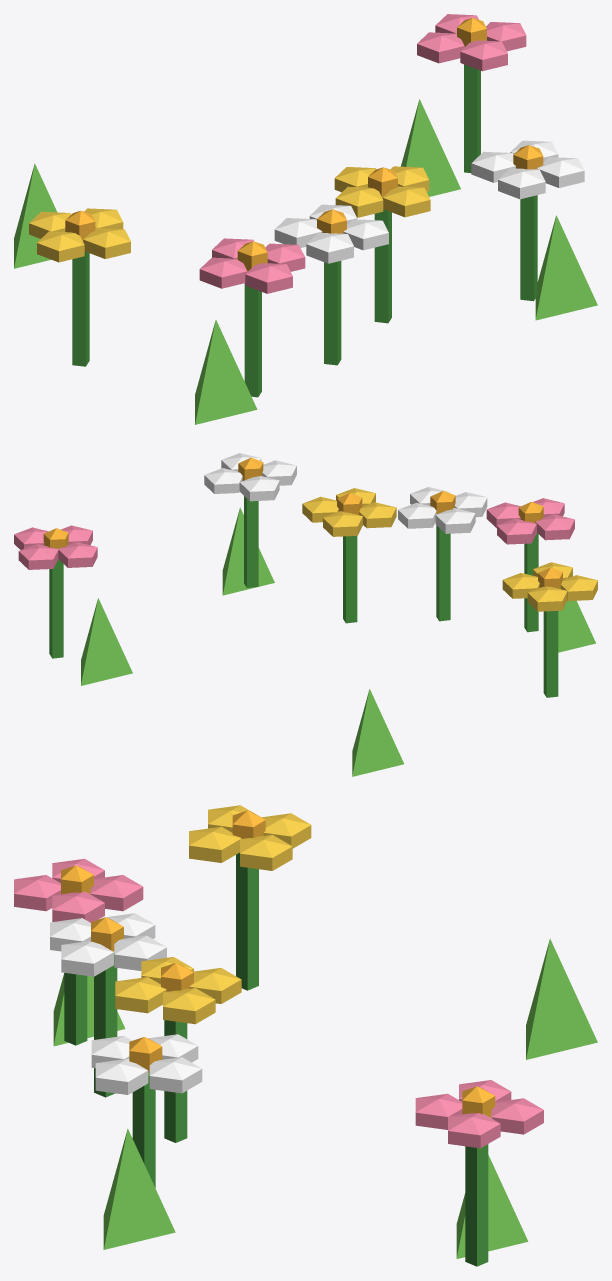
File: flower_patch.glb
3 renders of one model, top to bottom at view 1: azimuth 30°, elevation 25°; view 2: azimuth 150°, elevation 25°; view 3: azimuth 270°, elevation 25°, orthographic. The views are drawn at different scales.
Parts seen in each view (by area): view 1: flower_patch; view 2: flower_patch; view 3: flower_patch.
Part boxes in pixels (x1,y1,x2,y2): flower_patch: [14, 14, 597, 424]; flower_patch: [14, 453, 597, 776]; flower_patch: [14, 805, 597, 1266].
Bounding box in the file's own units: 0.8148 × 0.212 × 0.6091.
